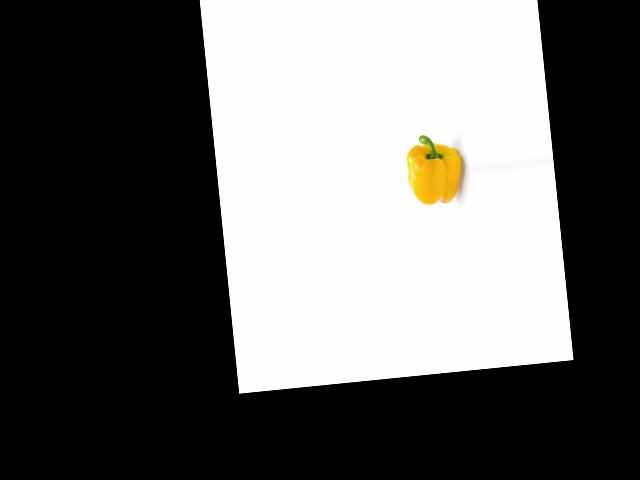bell_pepper: (400, 125, 465, 209)
